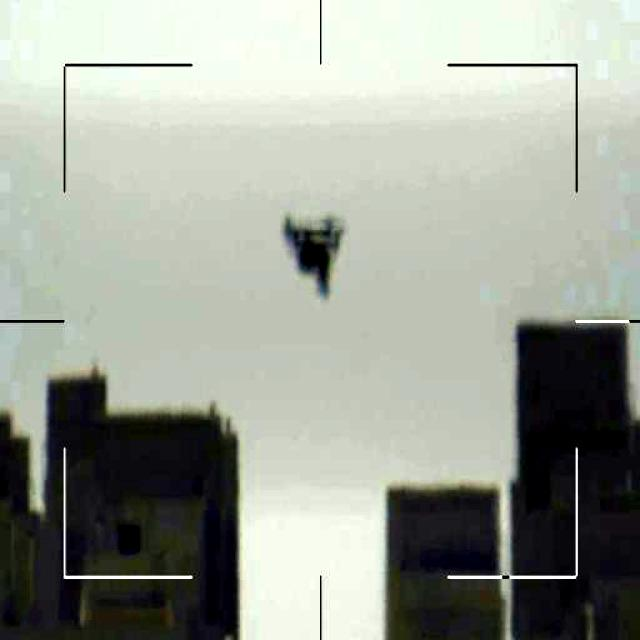bird: (284, 212, 354, 302)
